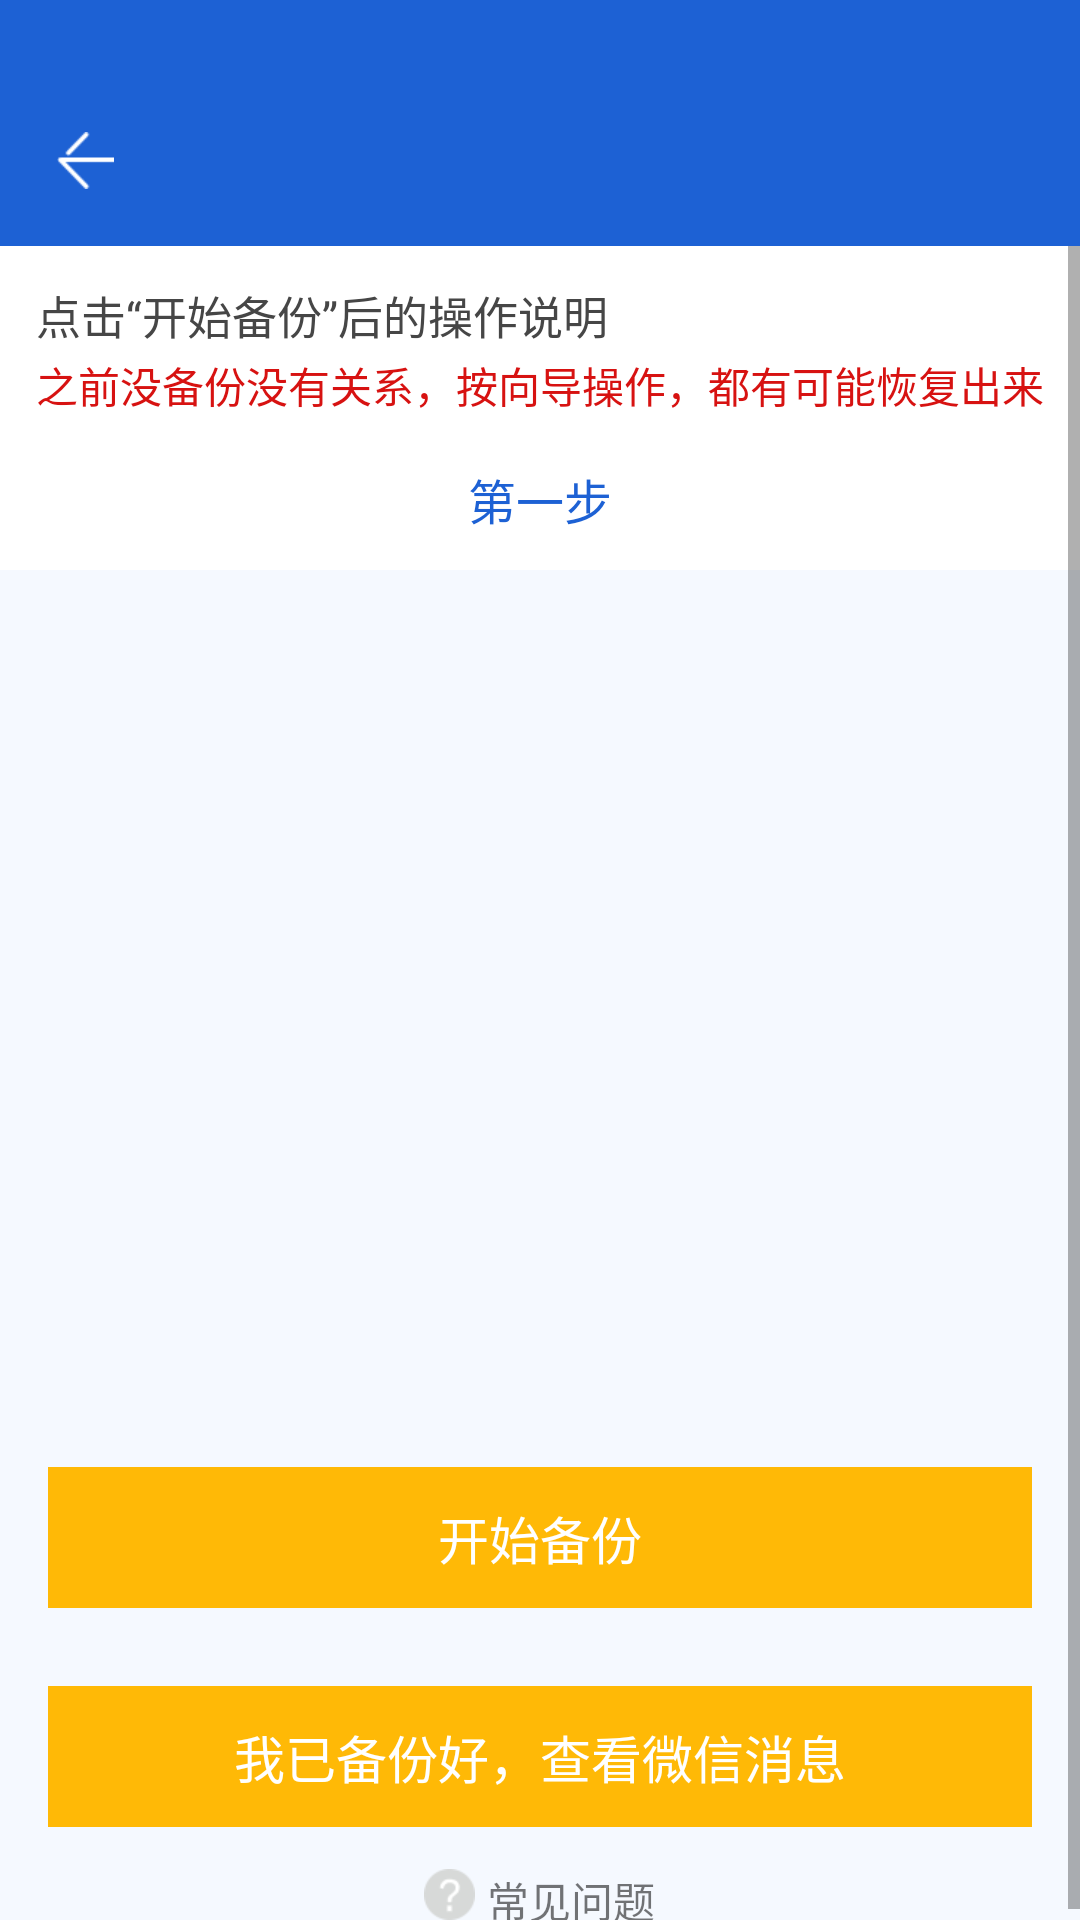

Named icons in this screenshot (1080x1920) and their centers, point (x, y):
back: point (85, 160)
help: point (449, 1894)
